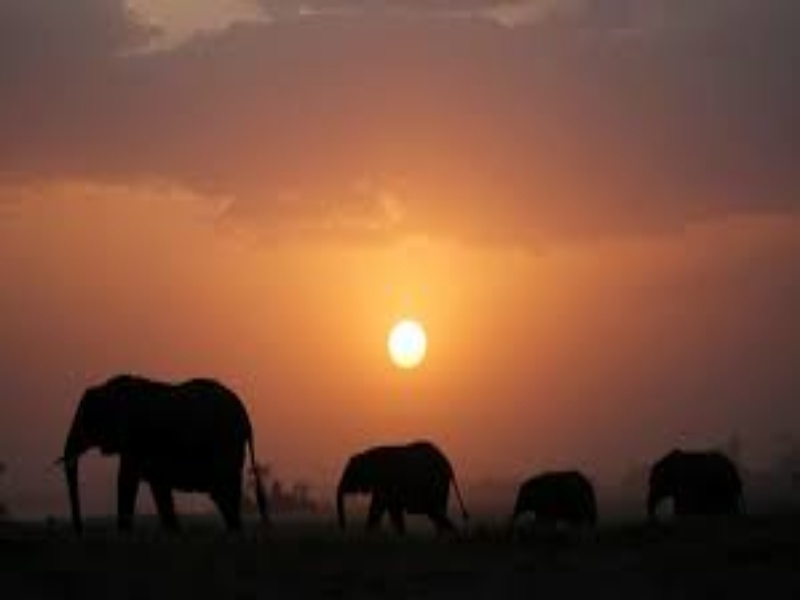elephant: (48, 344, 278, 536), (310, 421, 482, 535)
